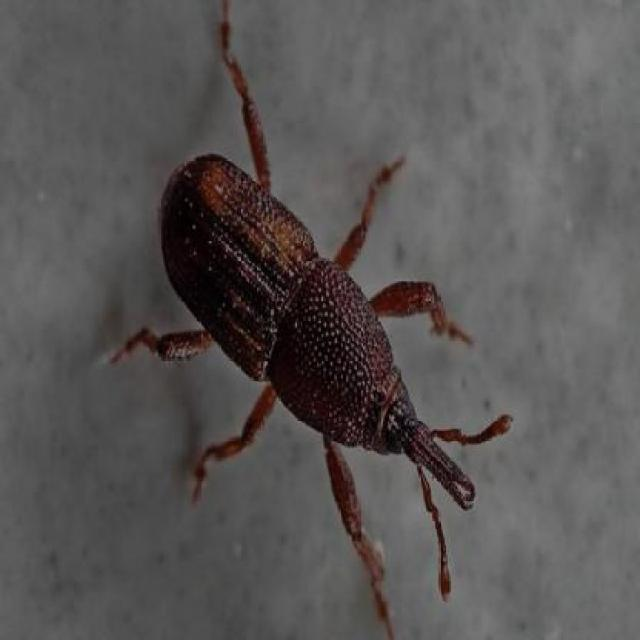rice-bug: (158, 156, 476, 538)
